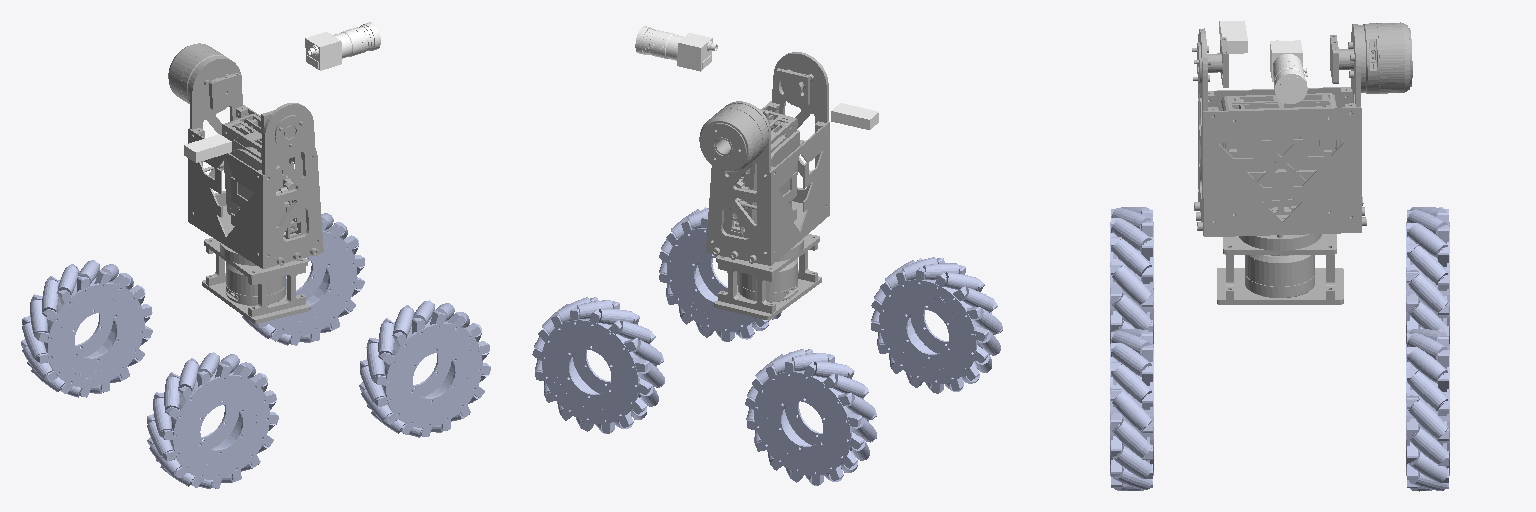
URDF robot description (infantry):
<?xml version="1.0" ?>
<!-- =================================================================================== -->
<!-- |    This document was autogenerated by xacro from [local-path]/robomaster_sim/src/infantry2/urdf/infantry2.urdf.xacro | -->
<!-- |    EDITING THIS FILE BY HAND IS NOT RECOMMENDED                                 | -->
<!-- =================================================================================== -->
<!-- This URDF was automatically created by SolidWorks to URDF Exporter! Originally created by [author] ([email redacted]) 
     Commit Version: 1.6.0-4-g7f85cfe  Build Version: 1.6.7995.38578
     For more information, please see http://wiki.ros.org/sw_urdf_exporter -->
<robot name="infantry">
    <link name="base_link">
        <inertial>
            <origin rpy="0 0 0" xyz="-0.00137863188993259 0.0115059324212963 0.0427374455241142" />
            <mass value="2.74361495301529" />
            <inertia ixx="0.00339522103126171" ixy="5.6833344776147E-05" ixz="8.63787092638423E-05" iyy="0.00230253885860913" iyz="4.81630906209565E-06" izz="0.00263238186244752" />
        </inertial>
        <visual>
            <origin rpy="0 0 0" xyz="0 0 0" />
            <geometry>
                <mesh filename="package://infantry2/meshes/base_link.STL" />
            </geometry>
            <material name="">
                <color rgba="0.752941176470588 0.752941176470588 0.752941176470588 1" />
            </material>
        </visual>
        <collision>
            <origin rpy="0 0 0" xyz="0 0 0" />
            <geometry>
                <mesh filename="package://infantry2/meshes/base_link.STL" />
            </geometry>
        </collision>
    </link>
    <link name="dipang_Link">
        <inertial>
            <origin rpy="0 0 0" xyz="-0.0231581281624952 -0.000665486188006936 0.0209895806590208" />
            <mass value="2.36802677367184" />
            <inertia ixx="0.00670845477248876" ixy="2.61445286349158E-07" ixz="-9.5694467826242E-06" iyy="0.00392123421561026" iyz="2.82397085456505E-06" izz="0.00839185009539491" />
        </inertial>
        <visual>
            <origin rpy="0 0 0" xyz="0 0 0" />
            <geometry>
                <mesh filename="package://infantry2/meshes/dipang_Link.STL" />
            </geometry>
            <material name="">
                <color rgba="1 1 1 1" />
            </material>
        </visual>
        <collision>
            <origin rpy="0 0 0" xyz="0 0 0" />
            <geometry>
                <mesh filename="package://infantry2/meshes/dipang_Link.STL" />
            </geometry>
        </collision>
    </link>
    <joint name="dipang_Link_joint" type="continuous">
        <origin rpy="0 0 0" xyz="0 0 -0.0744999999999901" />
        <parent link="base_link" />
        <child link="dipang_Link" />
        <axis xyz="0 0 1" />
    </joint>
    <link name="left_front_Link">
        <inertial>
            <origin rpy="0 0 0" xyz="-1.2307E-06 0.020501 -5.7698E-09" />
            <mass value="0.3789" />
            <inertia ixx="0.00064351" ixy="-1.8716E-09" ixz="-4.3899E-09" iyy="0.0011794" iyz="-3.8139E-09" izz="0.00064351" />
        </inertial>
        <visual>
            <origin rpy="0 0 0" xyz="0 0 0" />
            <geometry>
                <mesh filename="package://infantry2/meshes/left_front_Link.STL" />
            </geometry>
            <material name="">
                <color rgba="0.79216 0.81961 0.93333 1" />
            </material>
        </visual>
        <collision>
            <origin rpy="0 0 0" xyz="0 0 0" />
            <geometry>
                <mesh filename="package://infantry2/meshes/left_front_Link.STL" />
            </geometry>
        </collision>
    </link>
    <joint name="left_front_Link_joint" type="continuous">
        <origin rpy="0 0 0" xyz="0.13665 0.1194 -0.062884" />
        <parent link="dipang_Link" />
        <child link="left_front_Link" />
        <axis xyz="0 1 0" />
    </joint>
    <link name="right_front_Link">
        <inertial>
            <origin rpy="0 0 0" xyz="-1.2288E-06 -0.020501 6.8286E-08" />
            <mass value="0.3789" />
            <inertia ixx="0.00064351" ixy="1.6754E-09" ixz="4.0341E-09" iyy="0.0011794" iyz="-3.904E-09" izz="0.0006435" />
        </inertial>
        <visual>
            <origin rpy="0 0 0" xyz="0 0 0" />
            <geometry>
                <mesh filename="package://infantry2/meshes/right_front_Link.STL" />
            </geometry>
            <material name="">
                <color rgba="0.79216 0.81961 0.93333 1" />
            </material>
        </visual>
        <collision>
            <origin rpy="0 0 0" xyz="0 0 0" />
            <geometry>
                <mesh filename="package://infantry2/meshes/right_front_Link.STL" />
            </geometry>
        </collision>
    </link>
    <joint name="right_front_Link_joint" type="continuous">
        <origin rpy="0 0 0" xyz="0.13665 -0.1194 -0.062884" />
        <parent link="dipang_Link" />
        <child link="right_front_Link" />
        <axis xyz="0 -1 0" />
    </joint>
    <link name="left_back_Link">
        <inertial>
            <origin rpy="0 0 0" xyz="1.2288E-06 0.020501 6.8324E-08" />
            <mass value="0.3789" />
            <inertia ixx="0.00064351" ixy="1.6753E-09" ixz="-4.0341E-09" iyy="0.0011794" iyz="3.9038E-09" izz="0.0006435" />
        </inertial>
        <visual>
            <origin rpy="0 0 0" xyz="0 0 0" />
            <geometry>
                <mesh filename="package://infantry2/meshes/left_back_Link.STL" />
            </geometry>
            <material name="">
                <color rgba="0.79216 0.81961 0.93333 1" />
            </material>
        </visual>
        <collision>
            <origin rpy="0 0 0" xyz="0 0 0" />
            <geometry>
                <mesh filename="package://infantry2/meshes/left_back_Link.STL" />
            </geometry>
        </collision>
    </link>
    <joint name="left_back_Link_joint" type="continuous">
        <origin rpy="0 0 0" xyz="-0.13665 0.1194 -0.062884" />
        <parent link="dipang_Link" />
        <child link="left_back_Link" />
        <axis xyz="0 1 0" />
    </joint>
    <link name="right_back_Link">
        <inertial>
            <origin rpy="0 0 0" xyz="1.2307E-06 -0.020501 -5.771E-09" />
            <mass value="0.3789" />
            <inertia ixx="0.00064351" ixy="-1.8715E-09" ixz="4.3901E-09" iyy="0.0011794" iyz="3.8139E-09" izz="0.00064351" />
        </inertial>
        <visual>
            <origin rpy="0 0 0" xyz="0 0 0" />
            <geometry>
                <mesh filename="package://infantry2/meshes/right_back_Link.STL" />
            </geometry>
            <material name="">
                <color rgba="0.79216 0.81961 0.93333 1" />
            </material>
        </visual>
        <collision>
            <origin rpy="0 0 0" xyz="0 0 0" />
            <geometry>
                <mesh filename="package://infantry2/meshes/right_back_Link.STL" />
            </geometry>
        </collision>
    </link>
    <joint name="right_back_Link_joint" type="continuous">
        <origin rpy="0 0 0" xyz="-0.13665 -0.11947 -0.062884" />
        <parent link="dipang_Link" />
        <child link="right_back_Link" />
        <axis xyz="0 -1 0" />
    </joint>
    <link name="yuntai_Link">
        <inertial>
            <origin rpy="0 0 0" xyz="0 0 0" />
            <mass value="0" />
            <inertia ixx="0" ixy="0" ixz="0" iyy="0" iyz="0" izz="0" />
        </inertial>
        <visual>
            <origin rpy="0 0 0" xyz="0 0 0" />
            <geometry>
                <mesh filename="package://infantry2/meshes/yuntai_Link.STL" />
            </geometry>
            <material name="">
                <color rgba="1 1 1 1" />
            </material>
        </visual>
        <collision>
            <origin rpy="0 0 0" xyz="0 0 0" />
            <geometry>
                <mesh filename="package://infantry2/meshes/yuntai_Link.STL" />
            </geometry>
        </collision>
    </link>
    <joint name="yuntai_Link_joint" type="continuous">
        <origin rpy="0 0 0" xyz="-0.00917045671479405 0.0545082812391114 0.159999999999998" />
        <parent link="base_link" />
        <child link="yuntai_Link" />
        <axis xyz="-0.066960010637093 0.997755659956625 0" />
    </joint>
    <link name="camera_Link">
        <inertial>
            <origin rpy="0 0 0" xyz="0.039555 -0.012005 -0.013618" />
            <mass value="0.06027" />
            <inertia ixx="7.3515E-06" ixy="-4.6518E-07" ixz="-5.5904E-08" iyy="1.3207E-05" iyz="1.7098E-08" izz="1.3244E-05" />
        </inertial>
        <visual>
            <origin rpy="0 0 0" xyz="0 0 0" />
            <geometry>
                <mesh filename="package://infantry2/meshes/camera_Link.STL" />
            </geometry>
            <material name="">
                <color rgba="1 1 1 1" />
            </material>
        </visual>
        <collision>
            <origin rpy="0 0 0" xyz="0 0 0" />
            <geometry>
                <mesh filename="package://infantry2/meshes/camera_Link.STL" />
            </geometry>
        </collision>
    </link>
    <joint name="camera_Link" type="fixed">
        <origin rpy="0 0 0" xyz="0.083904 -0.03486 0.05921" />
        <parent link="yuntai_Link" />
        <child link="camera_Link" />
        <axis xyz="0 0 0" />
    </joint>
    <link name="imu_Link">
        <inertial>
            <origin rpy="0 0 0" xyz="-0.015935 0.034237 -0.031754" />
            <mass value="0.029952" />
            <inertia ixx="1.882E-06" ixy="-2.8794E-07" ixz="-1.3014E-07" iyy="6.1533E-06" iyz="-8.7339E-09" izz="7.1853E-06" />
        </inertial>
        <visual>
            <origin rpy="0 0 0" xyz="0 0 0" />
            <geometry>
                <mesh filename="package://infantry2/meshes/imu_Link.STL" />
            </geometry>
            <material name="">
                <color rgba="1 1 1 1" />
            </material>
        </visual>
        <collision>
            <origin rpy="0 0 0" xyz="0 0 0" />
            <geometry>
                <mesh filename="package://infantry2/meshes/imu_Link.STL" />
            </geometry>
        </collision>
    </link>
    <joint name="imu_Link_joint" type="fixed">
        <origin rpy="0 0 0" xyz="-0.061947 -0.13239 0.018687" />
        <parent link="yuntai_Link" />
        <child link="imu_Link" />
        <axis xyz="0 0 0" />
    </joint>
    <transmission name="trans_dipang_Link_joint">
        <type>transmission_interface/SimpleTransmission</type>
        <joint name="dipang_Link_joint">
            <hardwareInterface>hardware_interface/EffortJointInterface</hardwareInterface>
        </joint>
        <actuator name="dipang_Link_joint_motor">
            <hardwareInterface>hardware_interface/EffortJointInterface</hardwareInterface>
            <mechanicalReduction>1</mechanicalReduction>
        </actuator>
    </transmission>
    <transmission name="trans_left_front_Link_joint">
        <type>transmission_interface/SimpleTransmission</type>
        <joint name="left_front_Link_joint">
            <hardwareInterface>hardware_interface/EffortJointInterface</hardwareInterface>
        </joint>
        <actuator name="left_front_Link_joint_motor">
            <hardwareInterface>hardware_interface/EffortJointInterface</hardwareInterface>
            <mechanicalReduction>1</mechanicalReduction>
        </actuator>
    </transmission>
    <transmission name="trans_right_front_Link_joint">
        <type>transmission_interface/SimpleTransmission</type>
        <joint name="right_front_Link_joint">
            <hardwareInterface>hardware_interface/EffortJointInterface</hardwareInterface>
        </joint>
        <actuator name="right_front_Link_joint_motor">
            <hardwareInterface>hardware_interface/EffortJointInterface</hardwareInterface>
            <mechanicalReduction>1</mechanicalReduction>
        </actuator>
    </transmission>
    <transmission name="trans_left_back_Link_joint">
        <type>transmission_interface/SimpleTransmission</type>
        <joint name="left_back_Link_joint">
            <hardwareInterface>hardware_interface/EffortJointInterface</hardwareInterface>
        </joint>
        <actuator name="left_back_Link_joint_motor">
            <hardwareInterface>hardware_interface/EffortJointInterface</hardwareInterface>
            <mechanicalReduction>1</mechanicalReduction>
        </actuator>
    </transmission>
    <transmission name="trans_right_back_Link_joint">
        <type>transmission_interface/SimpleTransmission</type>
        <joint name="right_back_Link_joint">
            <hardwareInterface>hardware_interface/EffortJointInterface</hardwareInterface>
        </joint>
        <actuator name="right_back_Link_joint_motor">
            <hardwareInterface>hardware_interface/EffortJointInterface</hardwareInterface>
            <mechanicalReduction>1</mechanicalReduction>
        </actuator>
    </transmission>
    <transmission name="trans_yuntai_Link_joint">
        <type>transmission_interface/SimpleTransmission</type>
        <joint name="yuntai_Link_joint">
            <hardwareInterface>hardware_interface/EffortJointInterface</hardwareInterface>
        </joint>
        <actuator name="yuntai_Link_joint_motor">
            <hardwareInterface>hardware_interface/EffortJointInterface</hardwareInterface>
            <mechanicalReduction>1</mechanicalReduction>
        </actuator>
    </transmission>
    <gazebo>
        <plugin name="gazebo_ros_control" filename="libgazebo_ros_control.so">
            <robotNamespace>/infantry</robotNamespace>
        </plugin>
    </gazebo>
</robot>

--- Facts derived from the render (not from the file) ---
The picture shows the robot from 3 angles, left to right: view 1: azimuth 30°, elevation 25°; view 2: azimuth 150°, elevation 25°; view 3: azimuth 270°, elevation 25°; orthographic projection.
Model infantry with 9 links and 8 joints (6 continuous, 2 fixed), rooted at base_link, posed every joint at zero.
Visible links, largest first — view 1: base_link, right_front_Link, left_back_Link, right_back_Link, left_front_Link, camera_Link, imu_Link; view 2: base_link, left_front_Link, right_back_Link, left_back_Link, right_front_Link, camera_Link, imu_Link; view 3: base_link, left_front_Link, right_front_Link, right_back_Link, left_back_Link, camera_Link, imu_Link.
Boxes of the visible links, x1=… form: base_link: x1=168, y1=43, x2=323, y2=323; right_front_Link: x1=359, y1=300, x2=490, y2=437; left_back_Link: x1=21, y1=260, x2=152, y2=397; right_back_Link: x1=147, y1=352, x2=278, y2=488; left_front_Link: x1=242, y1=213, x2=364, y2=345; camera_Link: x1=305, y1=22, x2=380, y2=70; imu_Link: x1=184, y1=134, x2=231, y2=162; base_link: x1=699, y1=52, x2=829, y2=319; left_front_Link: x1=532, y1=297, x2=664, y2=433; right_back_Link: x1=871, y1=257, x2=1002, y2=393; left_back_Link: x1=745, y1=349, x2=876, y2=485; right_front_Link: x1=659, y1=207, x2=781, y2=341; camera_Link: x1=635, y1=26, x2=717, y2=71; imu_Link: x1=831, y1=103, x2=878, y2=129; base_link: x1=1192, y1=22, x2=1412, y2=304; left_front_Link: x1=1406, y1=329, x2=1449, y2=491; right_front_Link: x1=1110, y1=329, x2=1153, y2=490; right_back_Link: x1=1110, y1=207, x2=1153, y2=343; left_back_Link: x1=1406, y1=207, x2=1449, y2=343; camera_Link: x1=1270, y1=40, x2=1307, y2=103; imu_Link: x1=1219, y1=20, x2=1247, y2=53.
Size in the robot's own frame: 0.4269 by 0.3209 by 0.4364 metres.
Meshes: 9 distinct files referenced, 7 mesh visuals loaded (7 binary STL); not drawn: 2 (reference not matched to a file when rendering).
